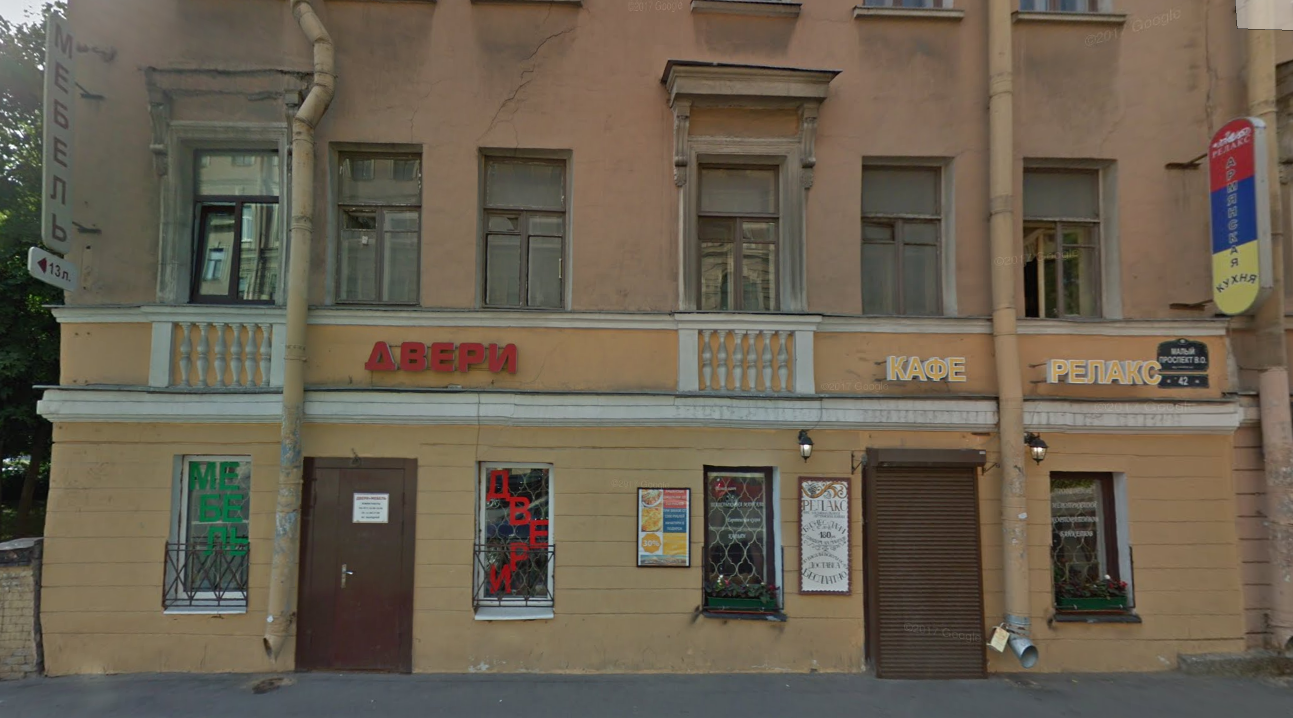cantilever: (24, 10, 119, 311), (1156, 114, 1272, 318)
door: (866, 451, 979, 680), (298, 459, 414, 676)
signboard: (884, 345, 1160, 394), (367, 330, 522, 381)
window: (861, 157, 951, 315), (195, 142, 283, 302), (337, 147, 422, 311), (1024, 163, 1108, 320), (482, 152, 564, 307), (698, 161, 778, 312), (475, 465, 554, 605), (177, 453, 248, 604), (705, 467, 771, 600), (1053, 476, 1110, 608)
